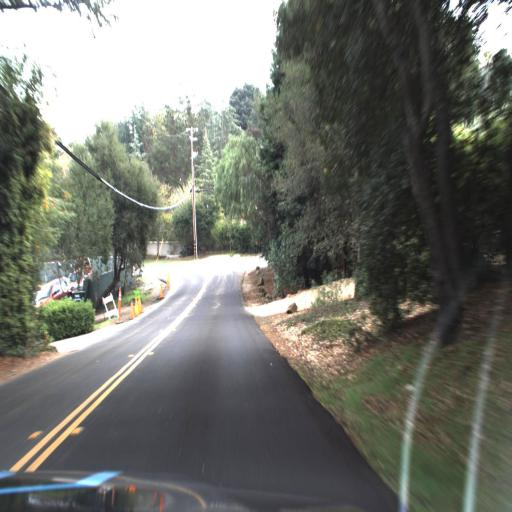car: (31, 271, 71, 321), (66, 258, 101, 302)
